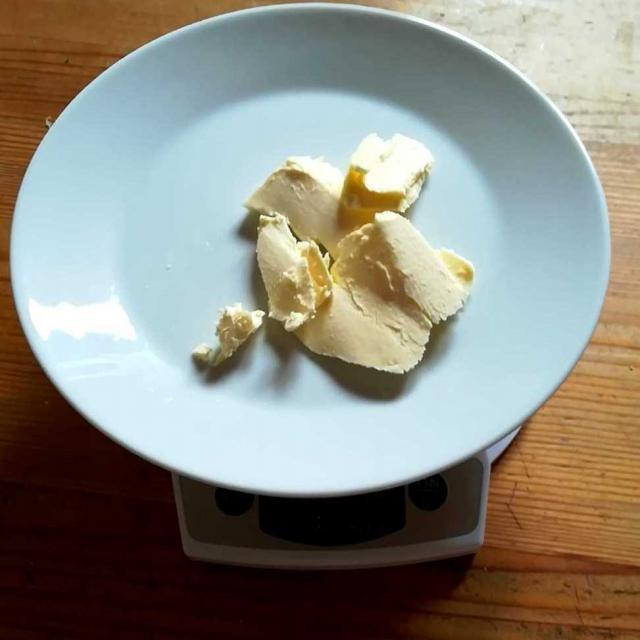butter: (209, 139, 472, 378)
